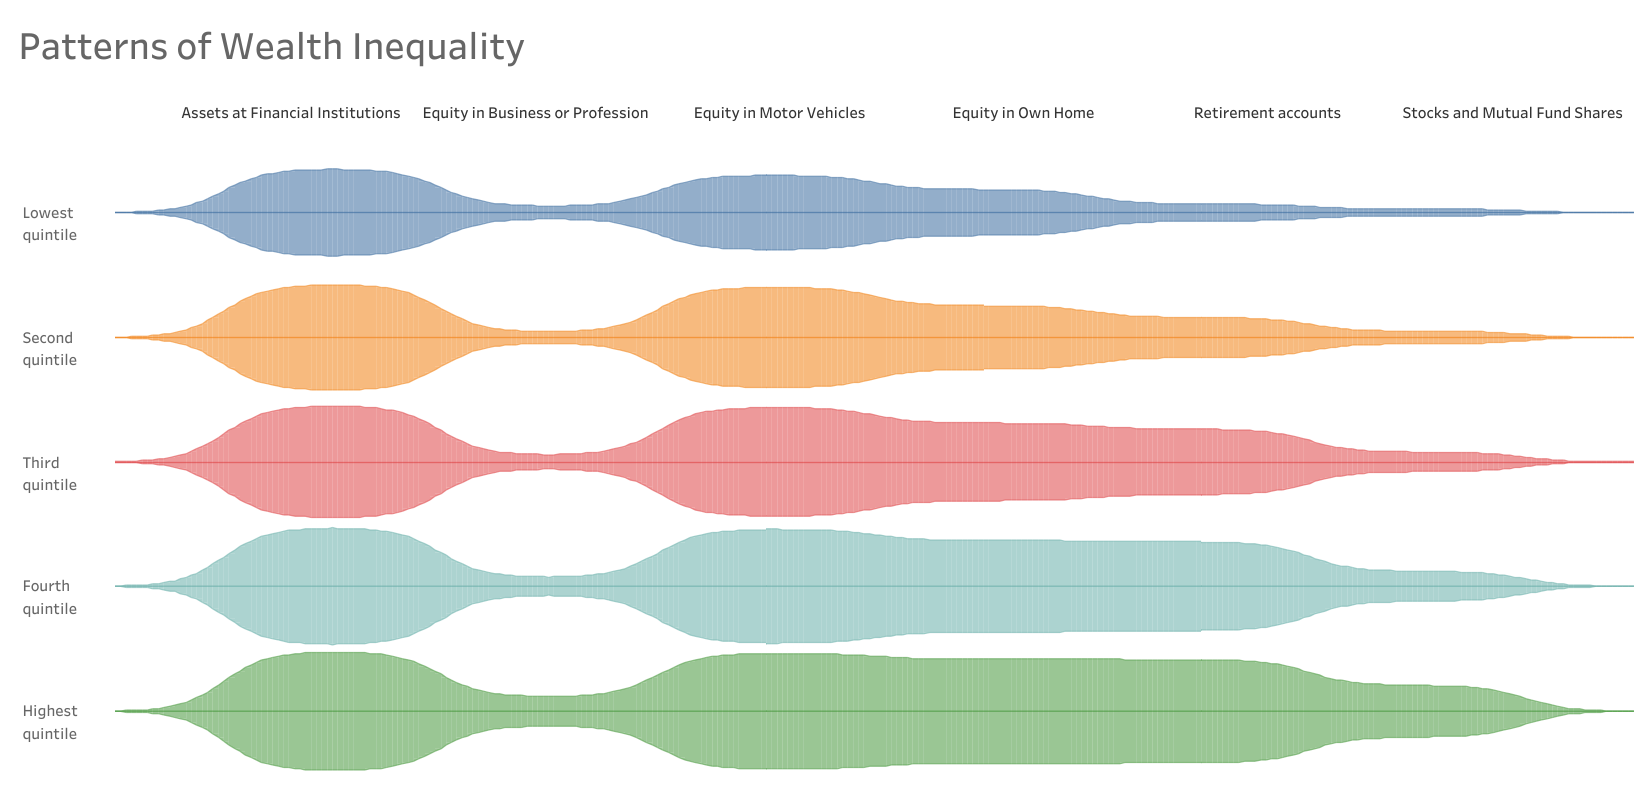

The page's visual inventory and layout, read from the dashboard file:
{"tool":"tableau","page":{"name":"Symbol of wealth and Inequalities","canvas":[1000,1000],"units":"permille","ordinal":0},"visuals":[{"type":"text","box":[6.1,9.3,987.9,86.6]},{"type":"blank","box":[6.1,95.9,94.1,85.5]},{"type":"worksheet","title":"Header","mark":"Automatic","cols":["Asset Type"],"box":[100.2,95.9,893.8,85.5]},{"type":"worksheet","title":"Viola Core Chart","mark":"Area","rows":["Quintile Description"],"cols":["Start Type"],"box":[6.1,181.4,987.9,809.3]}]}

Visuals, with their boxes on the dashboard's canvas, which has no fixed pixel size, in thousandths of its width and height (x1, y1, x2, y2). These are canvas units, not pixel positions in the 1649x788 screenshot, which may show the page scaled, cropped or inside an application window:
text: left=6, top=9, right=994, bottom=96
blank: left=6, top=96, right=100, bottom=181
"Header" worksheet: left=100, top=96, right=994, bottom=181
"Viola Core Chart" worksheet (Area marks): left=6, top=181, right=994, bottom=991
